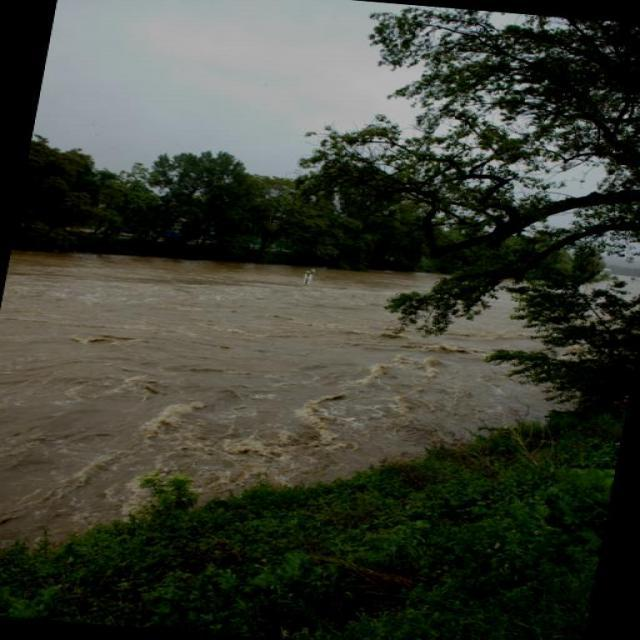flood: (0, 230, 639, 607)
